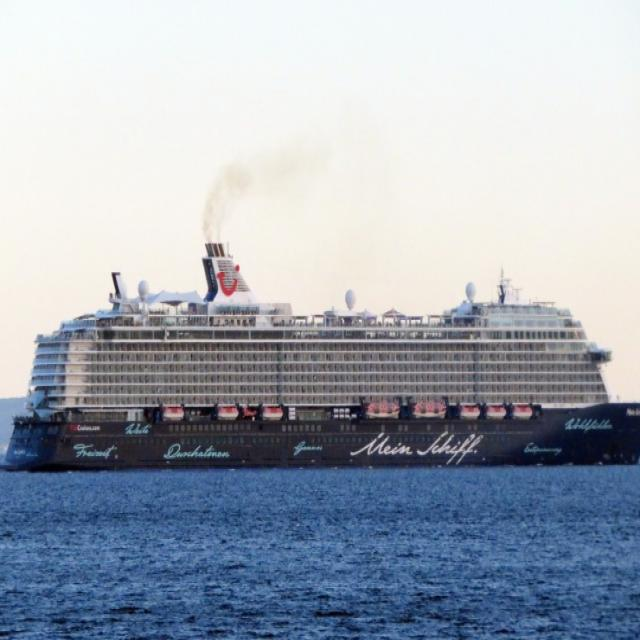cruises: (1, 237, 640, 476)
